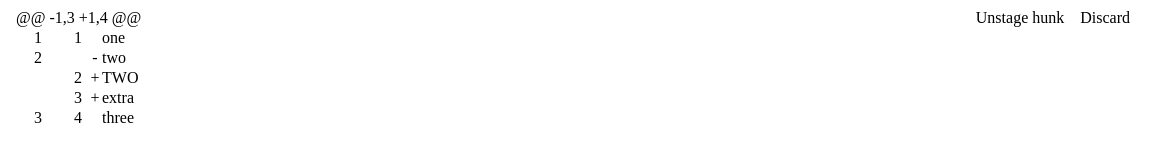
DiffViewer line selection › offers no line discard where only whole hunks can be discarded
Click the button named "Select added line 3" at (68, 98), box [48,88,88,108]
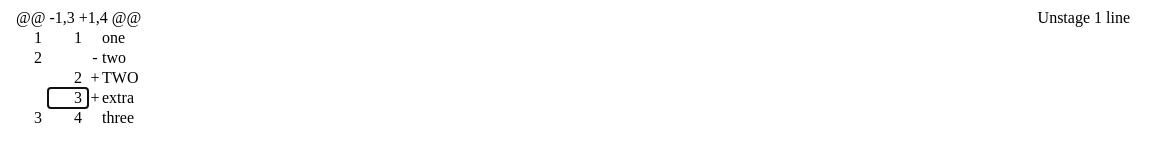
Result: the button "Unstage 1 line" is shown at [1032,8,1136,28]
Result: the button "Discard" is gone
